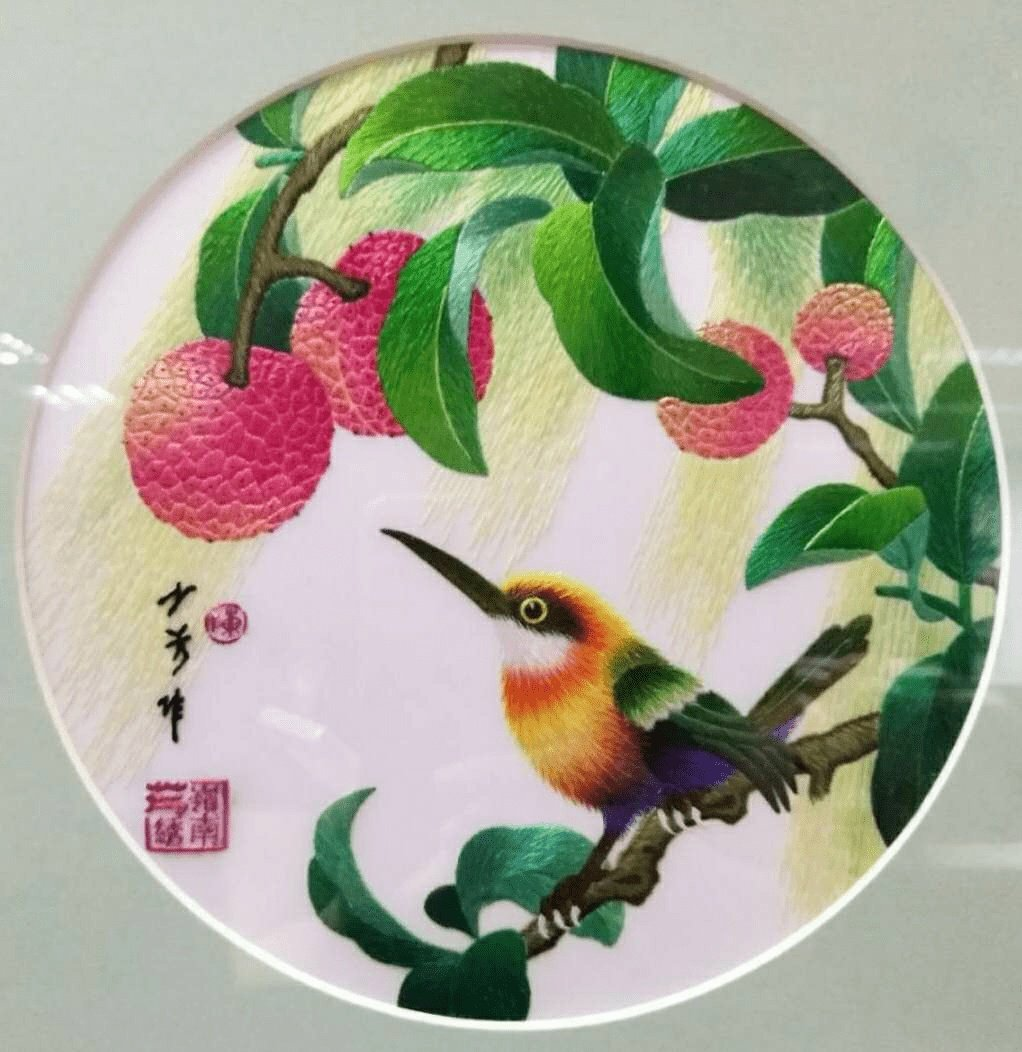bird: (367, 525, 882, 938)
lychee: (120, 339, 333, 545), (291, 228, 495, 435), (657, 321, 795, 461), (791, 282, 893, 371)
